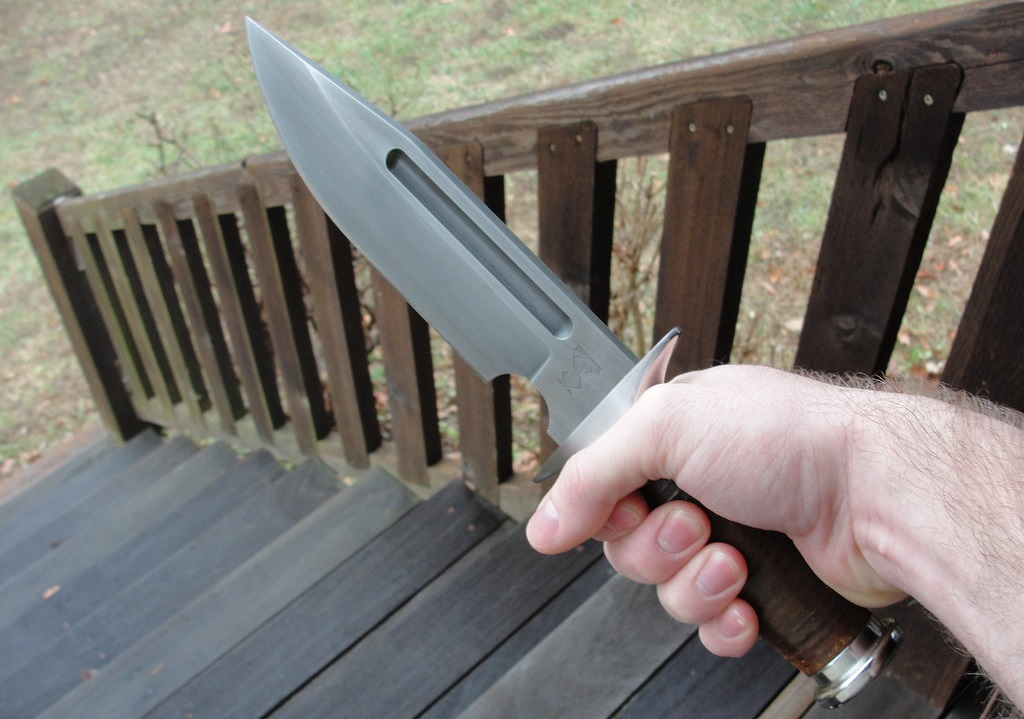knife: (229, 6, 747, 597)
